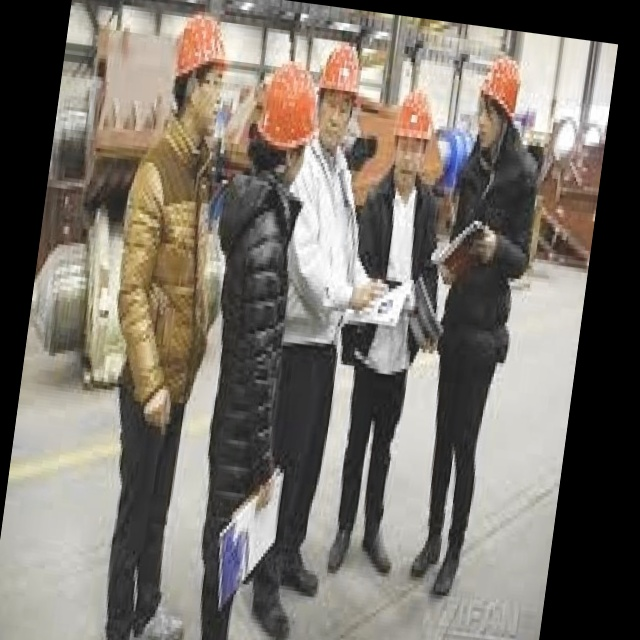Con_Casco: (388, 84, 437, 195)
